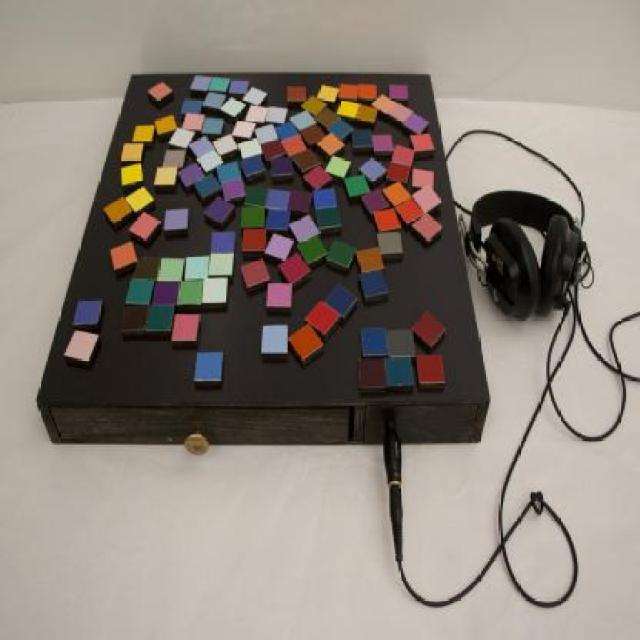earphone: (466, 157, 586, 318)
